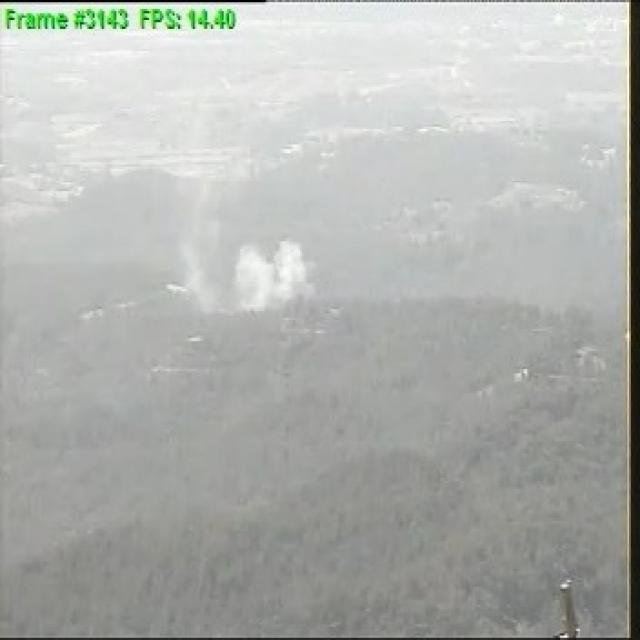smoke: (178, 229, 319, 307)
